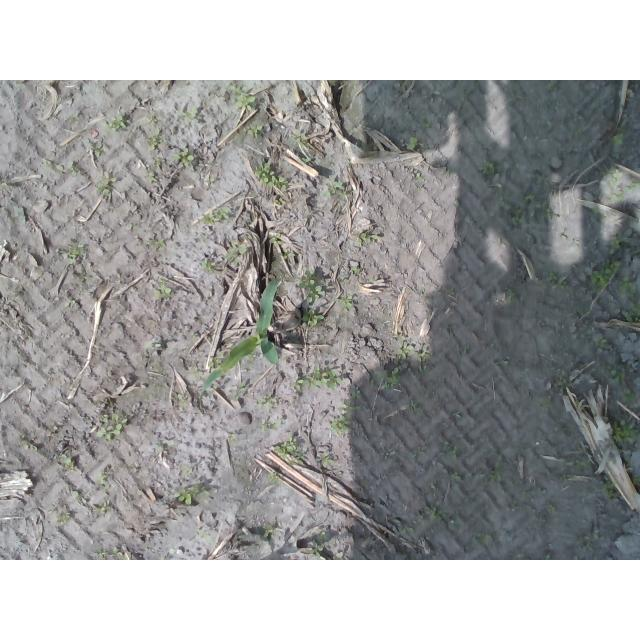Maize: (202, 278, 282, 394)
Weeds: (298, 270, 326, 326), (290, 367, 342, 390), (254, 160, 288, 188), (592, 258, 619, 288), (622, 277, 640, 319), (172, 487, 210, 505), (613, 421, 640, 446), (97, 415, 124, 440), (274, 440, 304, 461), (201, 206, 232, 224), (236, 92, 257, 112), (373, 369, 400, 384), (323, 181, 345, 199), (83, 138, 103, 157), (548, 271, 568, 289), (173, 152, 195, 167), (152, 282, 172, 298), (229, 384, 247, 401), (329, 416, 347, 433), (397, 342, 415, 358), (609, 368, 624, 385), (110, 116, 128, 130), (340, 404, 360, 416), (513, 207, 526, 225), (425, 505, 439, 521), (339, 296, 354, 310), (606, 168, 622, 181), (246, 126, 262, 139), (147, 134, 160, 150), (396, 522, 412, 535), (602, 481, 614, 498), (506, 287, 517, 305), (312, 543, 325, 557), (68, 249, 81, 263), (201, 258, 215, 271), (406, 136, 418, 151), (358, 232, 378, 241), (95, 183, 111, 194), (608, 190, 622, 202), (593, 336, 607, 348), (610, 235, 621, 249), (613, 131, 624, 145), (256, 397, 271, 407), (56, 515, 68, 526), (574, 458, 586, 469), (295, 132, 306, 144), (488, 471, 501, 481), (279, 250, 291, 260), (623, 389, 633, 401), (238, 245, 250, 255), (448, 445, 457, 455), (451, 472, 461, 480), (322, 453, 329, 464), (264, 527, 273, 535), (63, 457, 73, 464), (302, 156, 310, 164), (269, 237, 278, 244)
